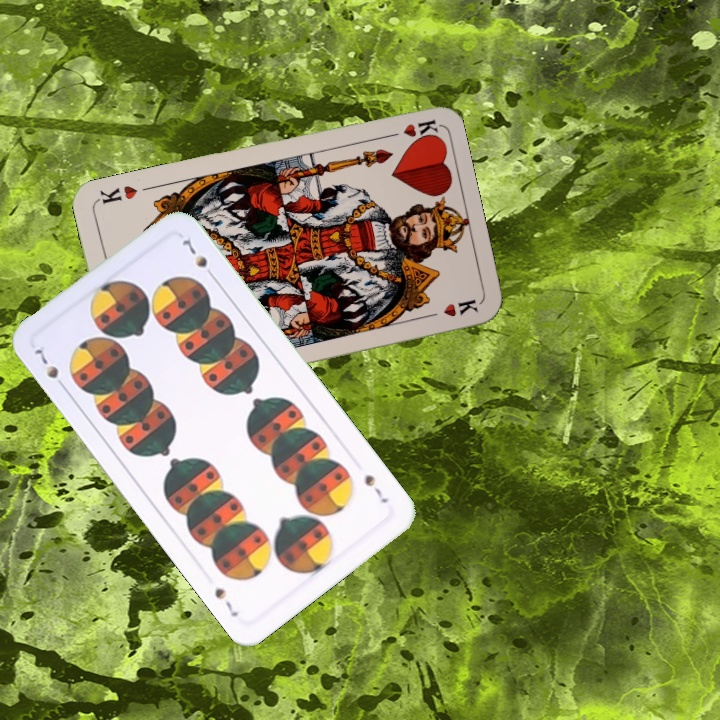HK: (379, 115, 439, 142)
S7: (28, 341, 70, 393), (360, 470, 391, 506)
